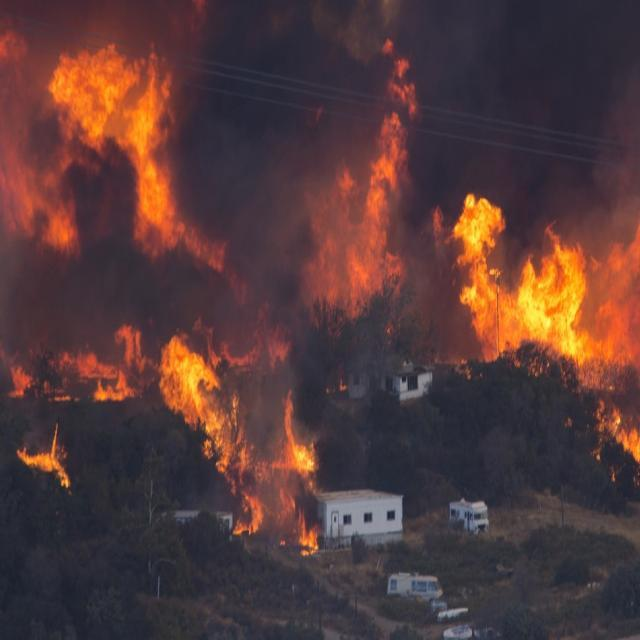Fire: (0, 12, 640, 540)
Smoke: (386, 0, 640, 290), (159, 0, 393, 298), (0, 132, 260, 367)
